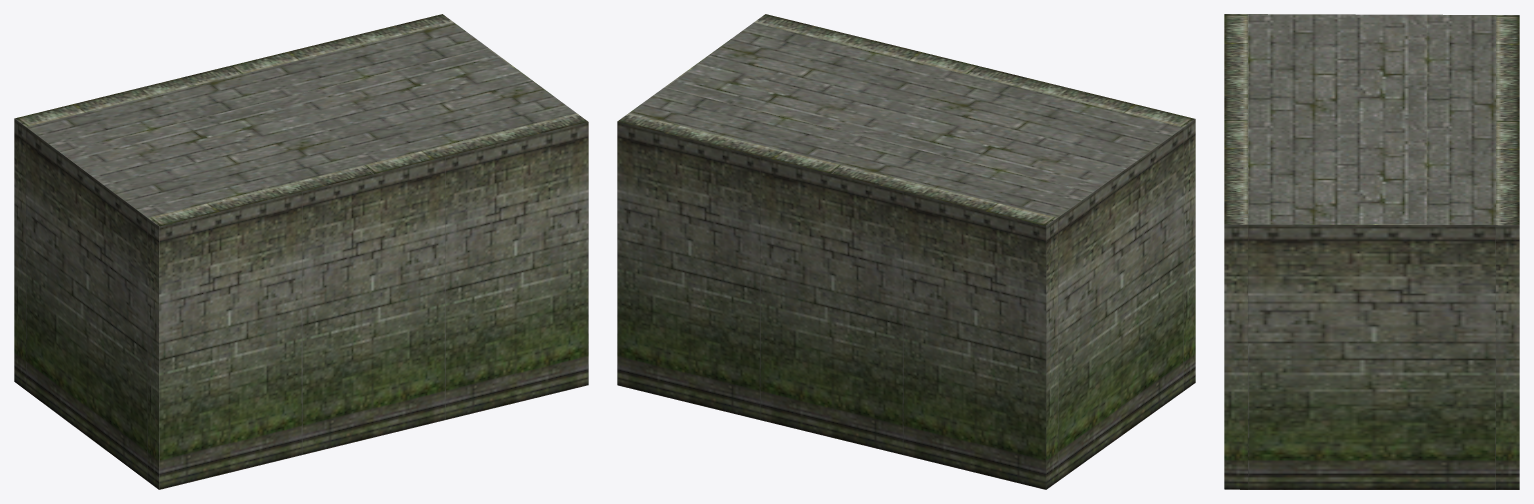
File: lianqizong_taijie04e_jz.FBX
3 renders of one model, left to right at view 1: azimuth 30°, elevation 25°; view 2: azimuth 150°, elevation 25°; view 3: azimuth 270°, elevation 25°, orthographic.
Visible parts, largest first — view 1: lianqizong_taijie04e_jz_A02, lianqizong_taijie04e_jz; view 2: lianqizong_taijie04e_jz_A02, lianqizong_taijie04e_jz; view 3: lianqizong_taijie04e_jz_A02, lianqizong_taijie04e_jz.
Boxes of the visible parts, box(x1,y1,x2,y2) form: lianqizong_taijie04e_jz_A02: box(14, 118, 588, 489); lianqizong_taijie04e_jz: box(14, 14, 588, 226); lianqizong_taijie04e_jz_A02: box(617, 119, 1195, 489); lianqizong_taijie04e_jz: box(617, 14, 1194, 225); lianqizong_taijie04e_jz_A02: box(1224, 224, 1519, 489); lianqizong_taijie04e_jz: box(1224, 14, 1519, 225).
Size of the model in its own units: 258 by 151 by 153.
